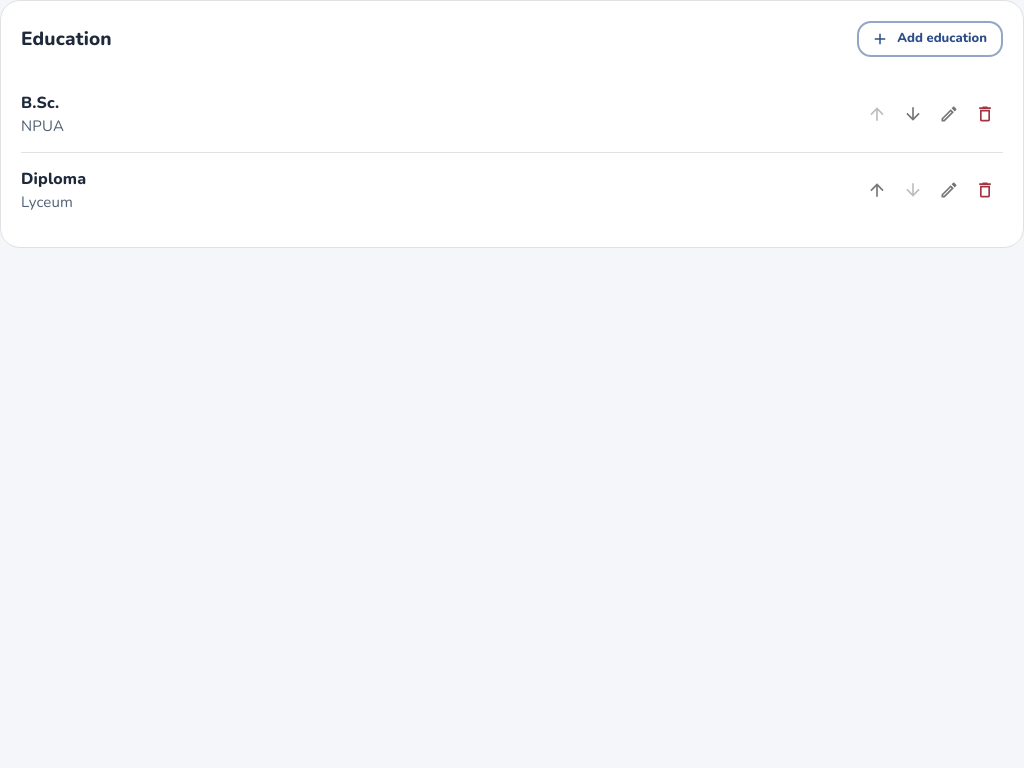
Test case: SectionEditor › does not send an entry with a required field empty, and says which
Click the button "Add education".
click(930, 39)  # box [857,21,1003,57]
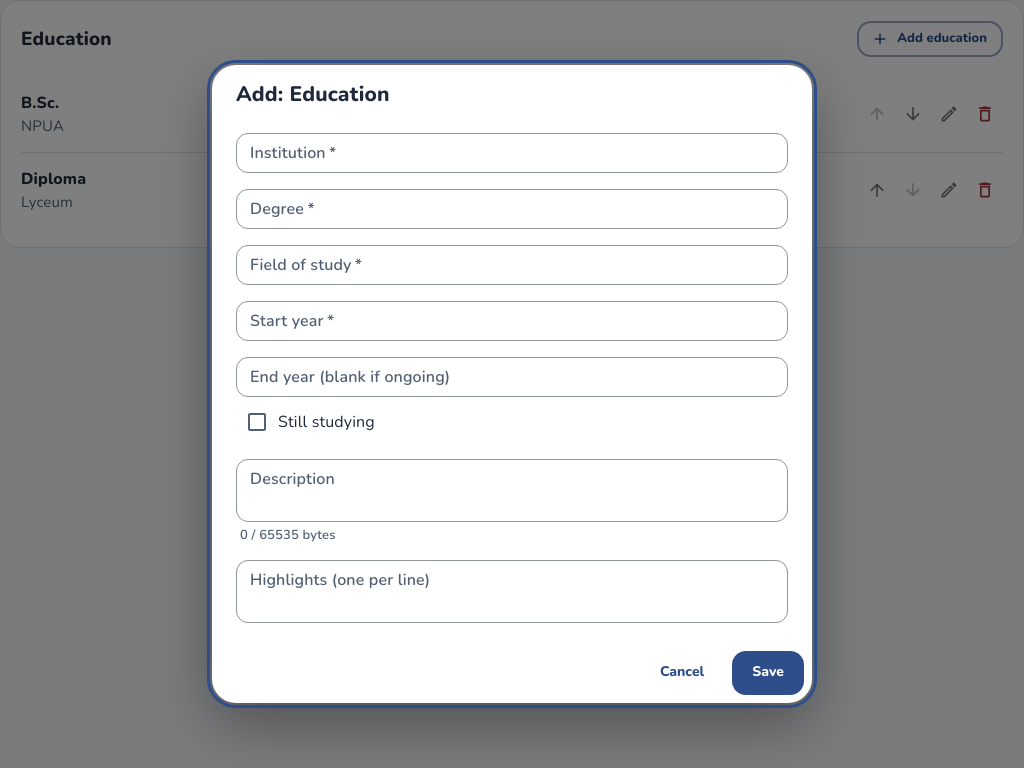
Type "MIT" into the field labelled "Institution *".
click(512, 152); type("MIT")  # box [236,132,788,172]
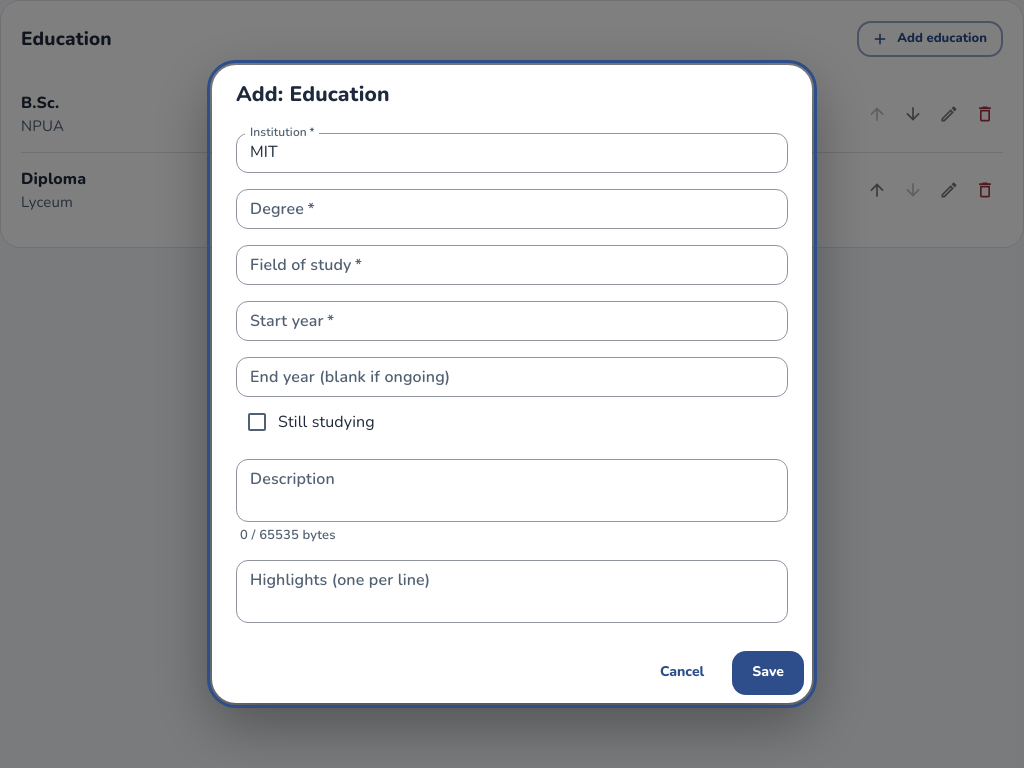
Click the button "Save".
click(768, 673)  # box [732,651,804,695]
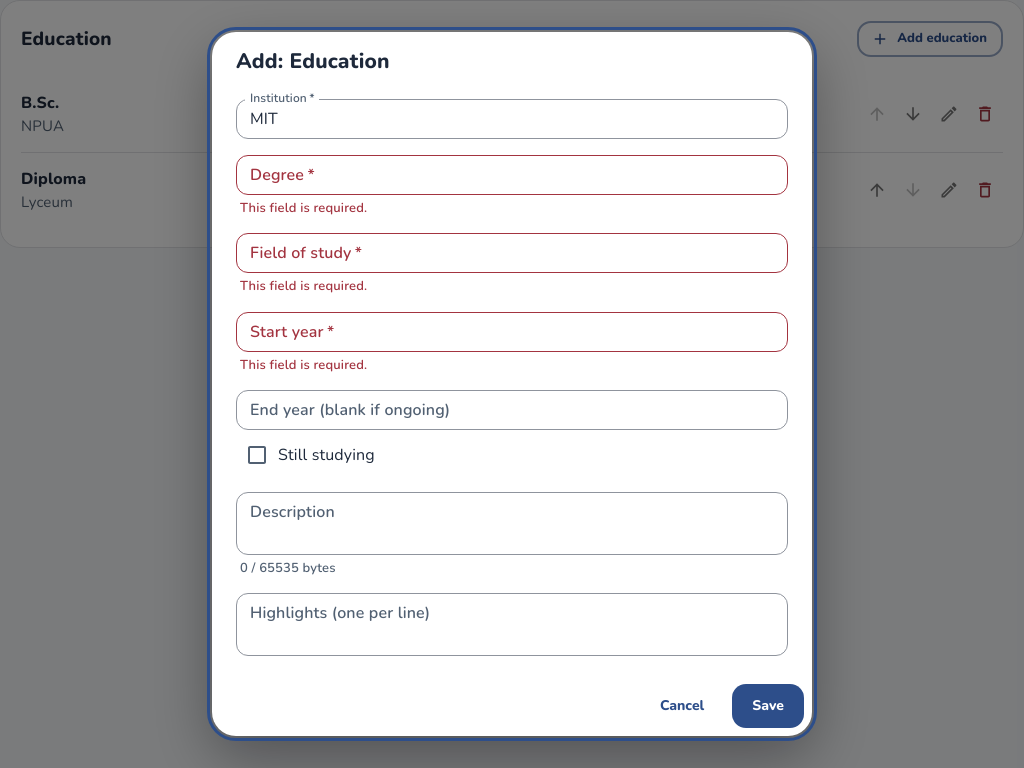
Now the text "This field is required." is shown 3 times, box [240,199,367,217]; [240,278,367,296]; [240,356,367,374]
